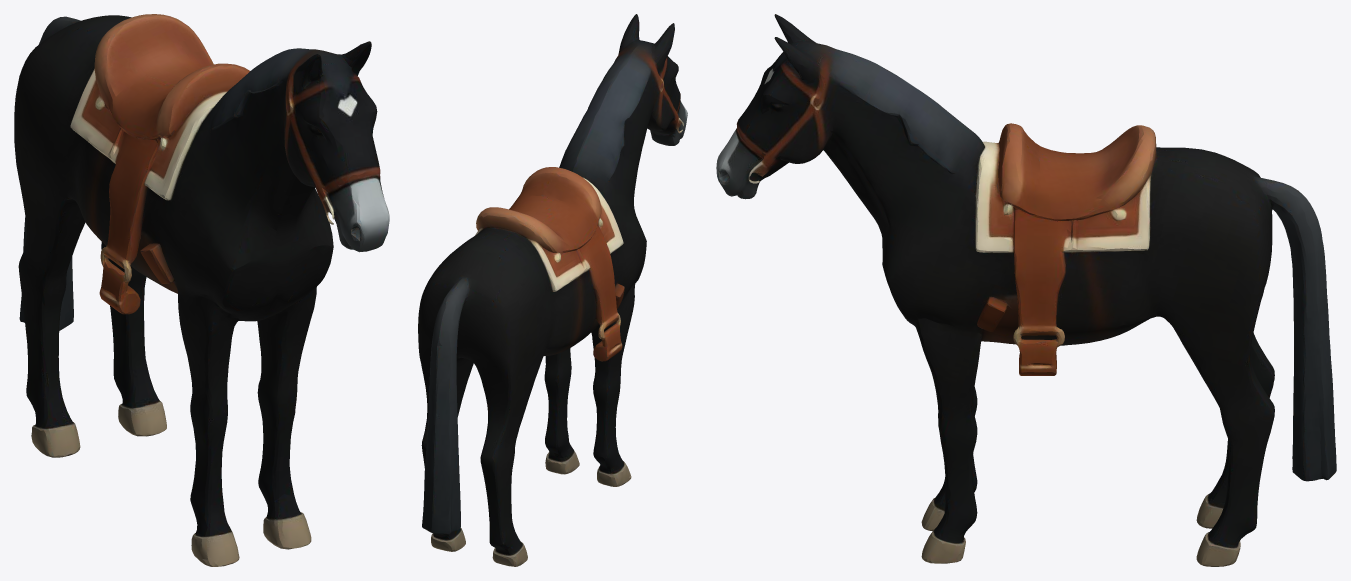
Rendered from horse-criollo-saddle.glb.
The picture shows the model from 3 angles, left to right: view 1: azimuth 30°, elevation 25°; view 2: azimuth 150°, elevation 25°; view 3: azimuth 270°, elevation 25°; orthographic projection. The views are drawn at different scales.
Visible parts, largest first — view 1: model; view 2: model; view 3: model.
Boxes of the visible parts, box(x1,y1,x2,y2) form: model: box(14, 14, 389, 566); model: box(418, 14, 687, 566); model: box(716, 14, 1336, 566).
Bounding box in the file's own units: 0.5832 × 1.75 × 1.91.
Materials: 1 (1 with a texture image).
